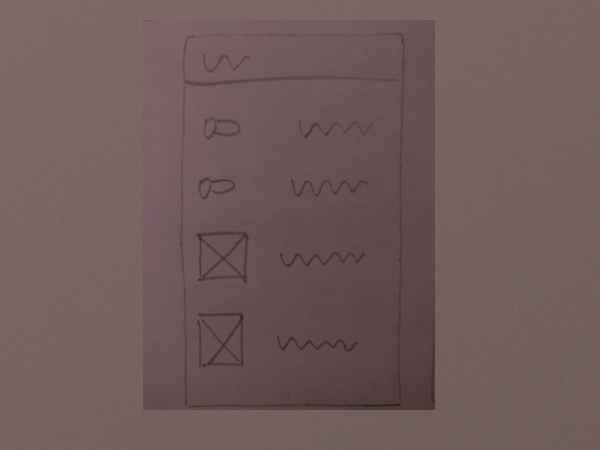image: (192, 310, 250, 373), (192, 229, 254, 287)
switch: (198, 112, 245, 146), (195, 169, 241, 203)
text: (276, 247, 369, 272), (272, 332, 366, 356), (295, 116, 378, 142), (287, 172, 371, 197), (199, 47, 252, 73)
